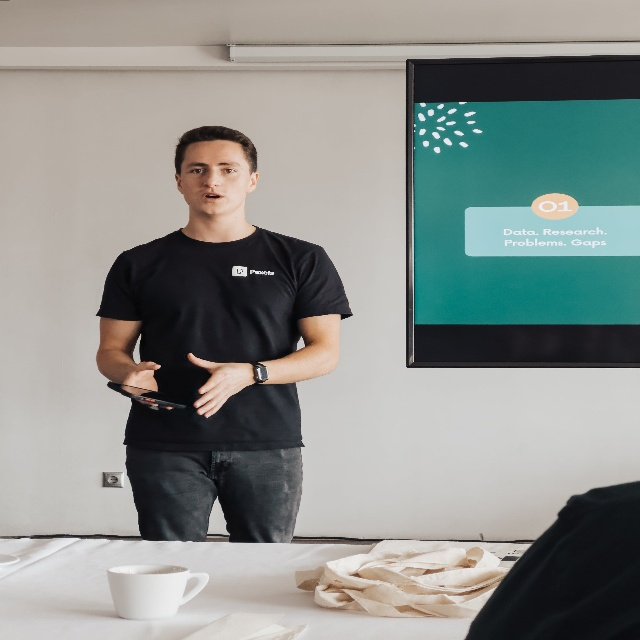Sin_guantes: (187, 352, 245, 419), (122, 360, 161, 391)
